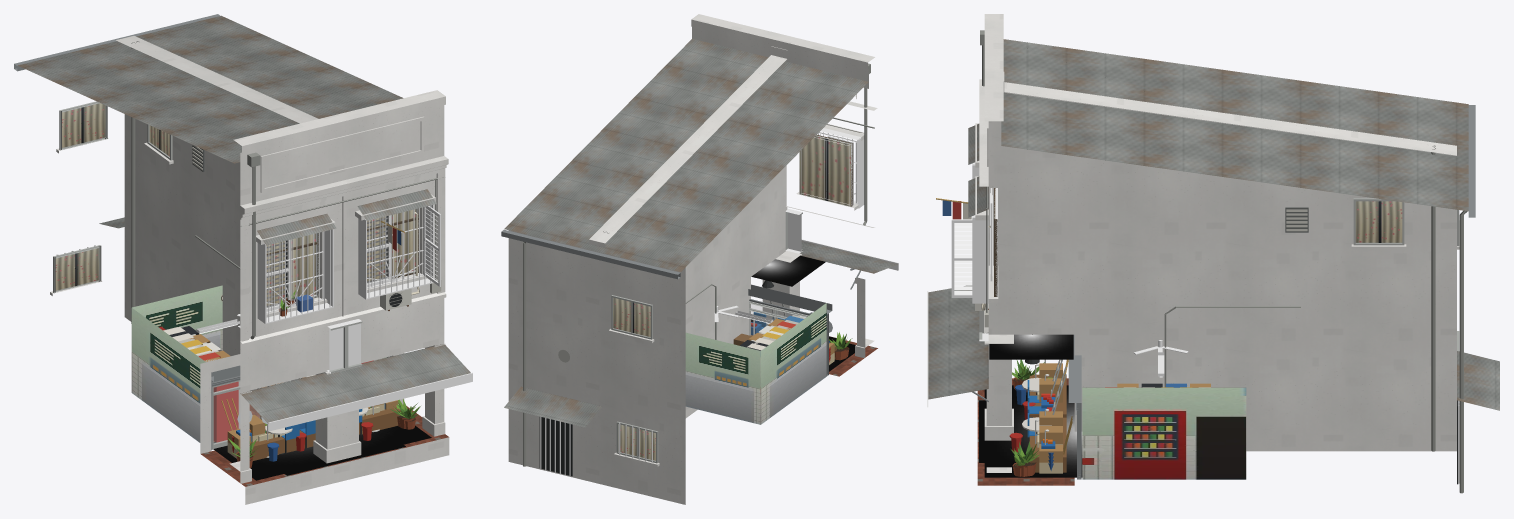
The model's file is LM_ENV_Shoplots.glb.
3 views of the same model, side by side, from view 1: azimuth 30°, elevation 25°; view 2: azimuth 150°, elevation 25°; view 3: azimuth 270°, elevation 25° (orthographic). The views are drawn at different scales.
Parts seen in each view (by area): view 1: frame~wall~Shoplot render, frame~fixed~Shoplot zinc, end_l~wall~Shoplot render, frame~trim~Shoplot render, frame~fixed~Night shop interior, awning~fixed~Shoplot zinc, upper_sliding~grille~Shoplot fixtures, frame~base~Shoplot render, frame~fixed~Shoplot fixtures, frame~fixed~Night wash, upper_louvre~joinery~Shoplot fixtures, upper_sliding~fixed~Shoplot zinc (+23 smaller); view 2: frame~fixed~Shoplot zinc, frame~wall~Shoplot render, frame~fixed~Night shop interior, end_l~wall~Shoplot render, frame~fixed~Shoplot fixtures, frame~trim~Shoplot render, upper_louvre~glass0~Night window glass, end_r~trim~Shoplot render, end_l~trim~Shoplot render, front_glazed~fixed~Shoplot fixtures, frame~fixed~Night wash, awning~fixed~Shoplot zinc (+10 smaller); view 3: end_r~wall~Shoplot render, frame~fixed~Shoplot zinc, frame~fixed~Night shop interior, awning~fixed~Shoplot zinc, frame~fixed~Night wash, frame~trim~Shoplot render, frame~fixed~Shoplot fixtures, end_r~fixed~Shoplot fixtures, end_r~trim~Shoplot render, end_l~trim~Shoplot render, upper_louvre~joinery~Shoplot fixtures, props_electric_0~fixed~Shoplot fixtures (+11 smaller).
Boxes of the visible parts, <box> form: frame~wall~Shoplot render: <box>240,105,444,482</box>; frame~fixed~Shoplot zinc: <box>17,15,403,228</box>; end_l~wall~Shoplot render: <box>124,114,358,445</box>; frame~trim~Shoplot render: <box>50,90,448,399</box>; frame~fixed~Night shop interior: <box>131,285,386,442</box>; awning~fixed~Shoplot zinc: <box>240,344,470,423</box>; upper_sliding~grille~Shoplot fixtures: <box>257,204,434,323</box>; frame~base~Shoplot render: <box>229,416,449,504</box>; frame~fixed~Shoplot fixtures: <box>14,14,443,339</box>; frame~fixed~Night wash: <box>213,425,431,480</box>; upper_louvre~joinery~Shoplot fixtures: <box>266,206,440,311</box>; upper_sliding~fixed~Shoplot zinc: <box>257,189,436,245</box>; frame~fixed~Shoplot zinc: <box>504,38,868,427</box>; frame~wall~Shoplot render: <box>508,27,868,504</box>; frame~fixed~Night shop interior: <box>685,303,826,424</box>; end_l~wall~Shoplot render: <box>589,166,785,418</box>; frame~fixed~Shoplot fixtures: <box>501,63,874,476</box>; frame~trim~Shoplot render: <box>608,14,877,466</box>; upper_louvre~glass0~Night window glass: <box>799,136,850,206</box>; end_r~trim~Shoplot render: <box>597,48,801,262</box>; end_l~trim~Shoplot render: <box>589,46,787,250</box>; front_glazed~fixed~Shoplot fixtures: <box>748,284,832,375</box>; frame~fixed~Night wash: <box>751,255,855,371</box>; awning~fixed~Shoplot zinc: <box>800,241,897,273</box>; end_r~wall~Shoplot render: <box>988,81,1456,451</box>; frame~fixed~Shoplot zinc: <box>1001,39,1499,410</box>; frame~fixed~Night shop interior: <box>1082,387,1246,479</box>; awning~fixed~Shoplot zinc: <box>928,285,988,399</box>; frame~fixed~Night wash: <box>979,334,1082,477</box>; frame~trim~Shoplot render: <box>975,14,1459,333</box>; frame~fixed~Shoplot fixtures: <box>980,30,1475,493</box>; end_r~fixed~Shoplot fixtures: <box>1164,147,1435,451</box>; end_r~trim~Shoplot render: <box>1003,72,1456,249</box>; end_l~trim~Shoplot render: <box>984,76,1456,351</box>; upper_louvre~joinery~Shoplot fixtures: <box>951,188,997,297</box>; props_electric_0~fixed~Shoplot fixtures: <box>1012,359,1210,476</box>.
Bounding box in the file's own units: 6.5 × 10.85 × 14.68.
10 materials, 7 textured.
